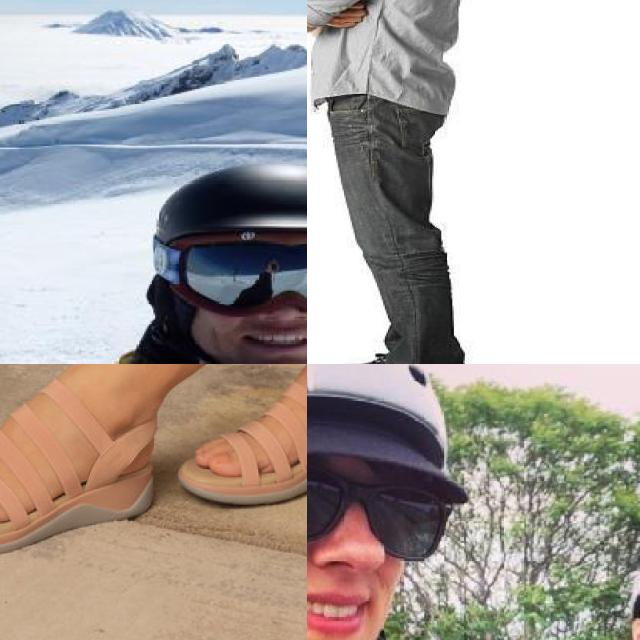Sandals: (0, 364, 160, 558), (175, 364, 307, 506)
face_nomask: (307, 456, 418, 640), (178, 234, 307, 364)
glasses: (307, 446, 454, 567), (158, 231, 307, 320)
head_helmet: (307, 364, 492, 498)
head_nohelmet: (149, 157, 307, 266)
person: (0, 157, 307, 364), (307, 0, 471, 364), (447, 543, 640, 640)
